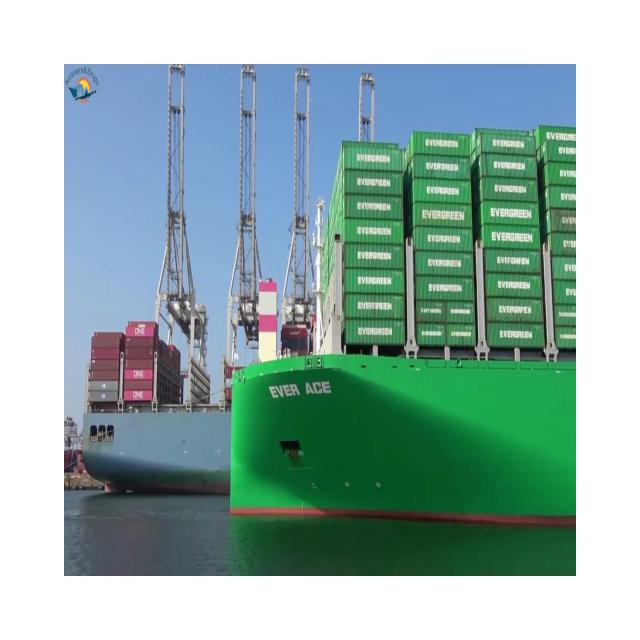OCR: (264, 369, 337, 406)
